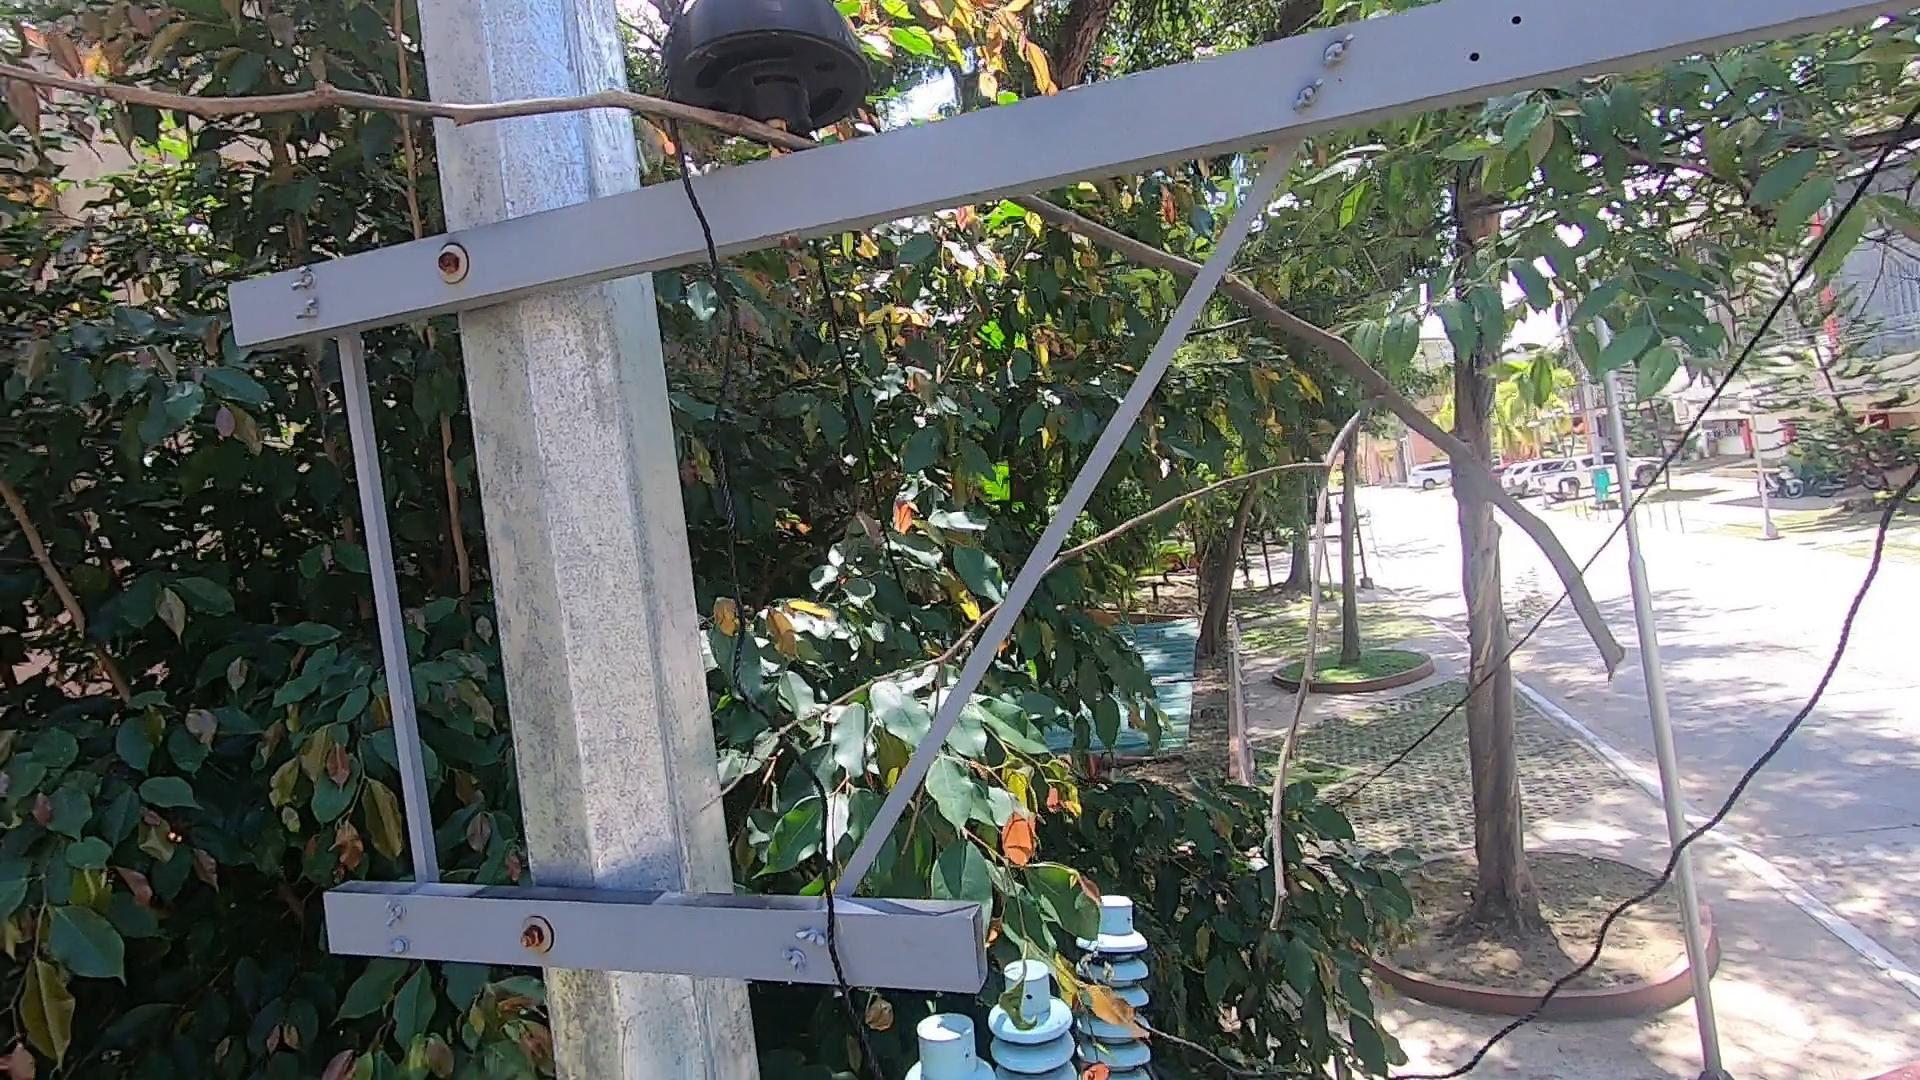branch with leaves: (985, 847, 1139, 1076)
tree branch: (4, 28, 1651, 690)
